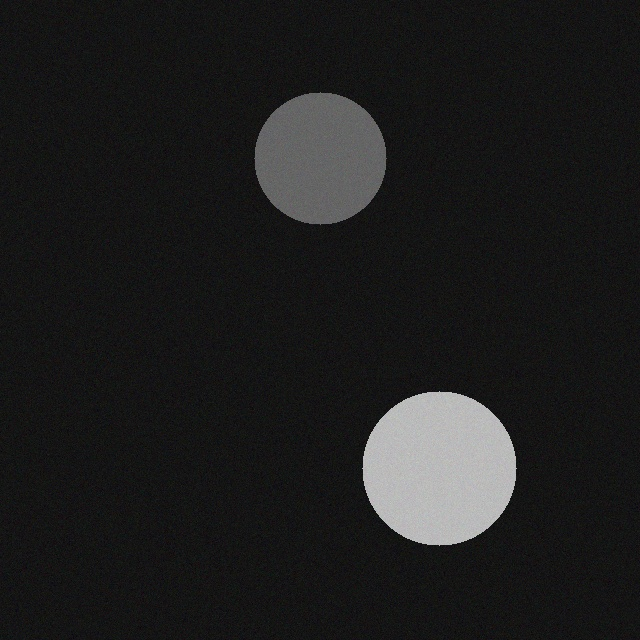circle: (366, 386, 520, 540), (258, 87, 390, 219)
